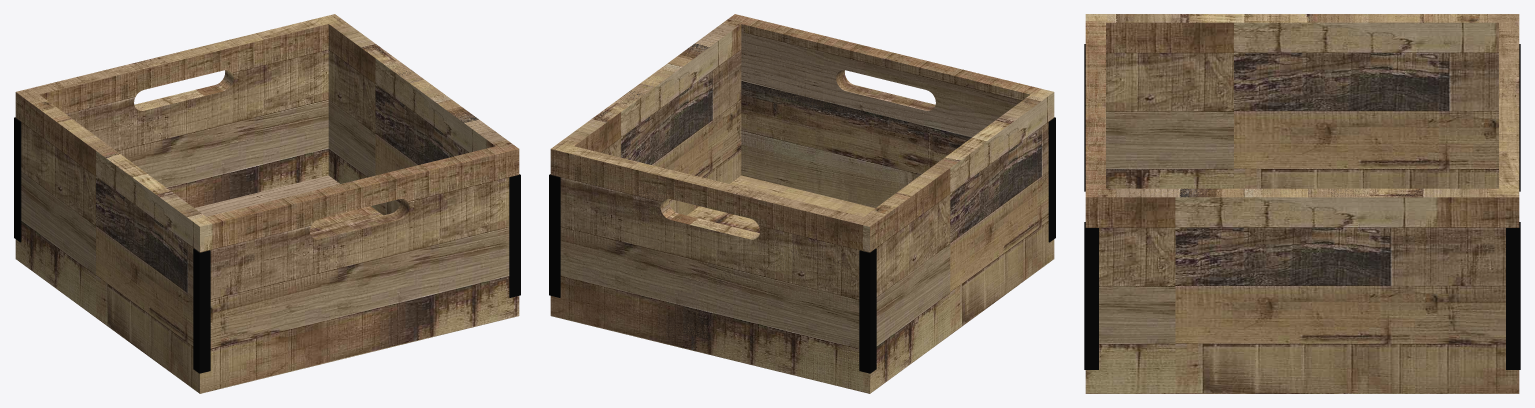
File: wooden_box.obj
3 views of the same model, side by side, from view 1: azimuth 30°, elevation 25°; view 2: azimuth 150°, elevation 25°; view 3: azimuth 270°, elevation 25° (orthographic). The views are drawn at different scales.
Parts seen in each view (by area): view 1: ID63, ID73, ID38, ID20, ID46, ID29, ID83; view 2: ID63, ID73, ID29, ID7, ID83, ID38, ID46; view 3: ID63, ID73, ID7, ID20.
Part boxes in pixels (box(x1,y1,x2,y2)): ID63: box(15, 14, 519, 393); ID73: box(39, 24, 495, 233); ID38: box(193, 248, 210, 373); ID20: box(509, 174, 520, 297); ID46: box(310, 199, 409, 239); ID29: box(14, 117, 21, 242); ID83: box(134, 70, 233, 110); ID63: box(550, 14, 1054, 393); ID73: box(574, 24, 1030, 233); ID29: box(859, 248, 876, 373); ID7: box(549, 174, 560, 297); ID83: box(660, 199, 759, 239); ID38: box(1048, 117, 1055, 242); ID46: box(836, 70, 935, 110); ID63: box(1085, 14, 1519, 393); ID73: box(1106, 22, 1498, 188); ID7: box(1506, 222, 1520, 369); ID20: box(1084, 222, 1098, 369).
Size of the model in its own units: 0.322 by 0.16 by 0.322.
